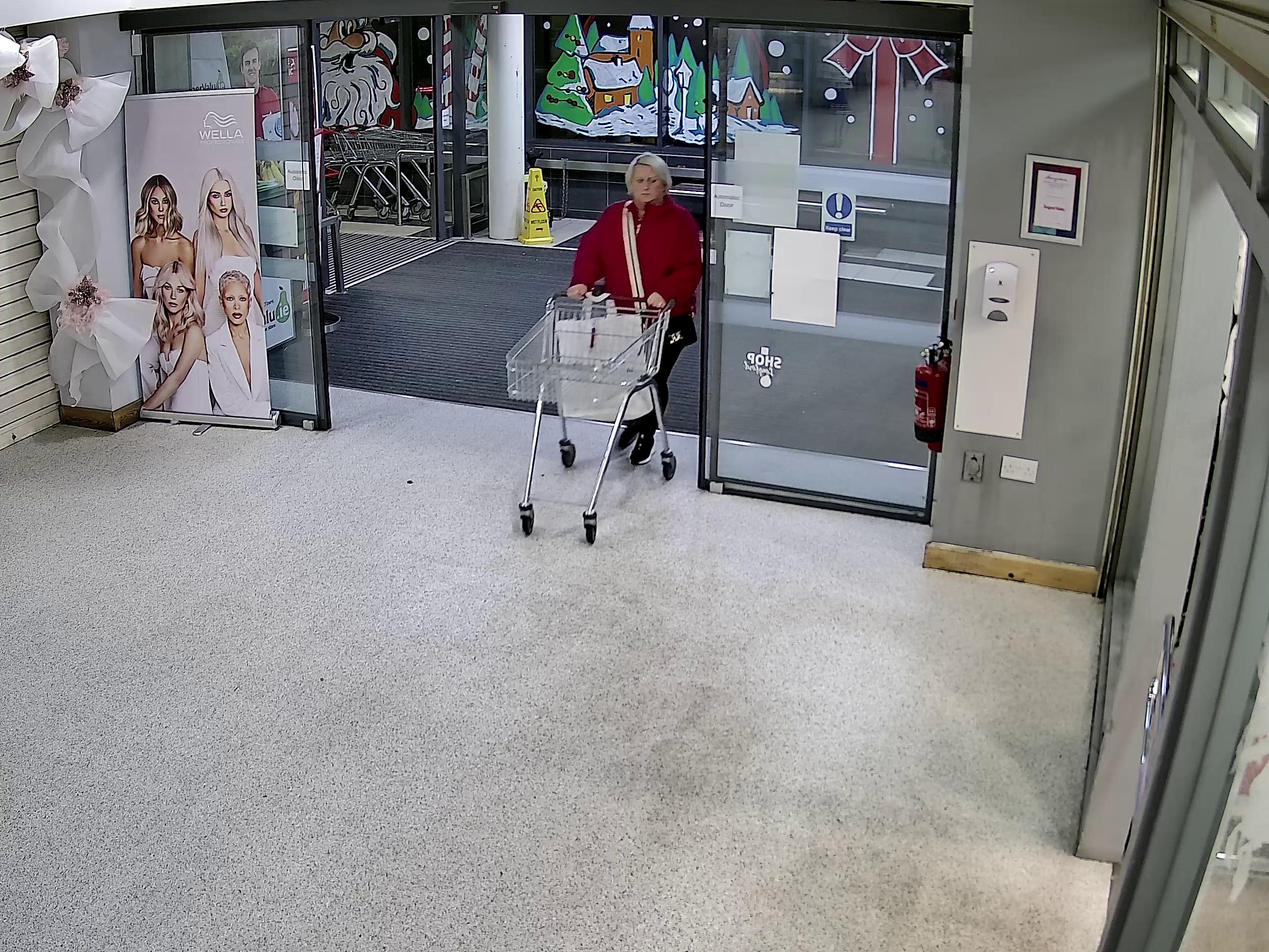backpack-or-handbag: (642, 308, 698, 351)
empty-shopping-bags: (556, 311, 653, 423)
empty-trolly: (504, 290, 678, 541)
person: (568, 151, 702, 463)
person-with-basket-trolly-shopping-bag-s-and-backpack-handbag: (505, 150, 702, 542)
